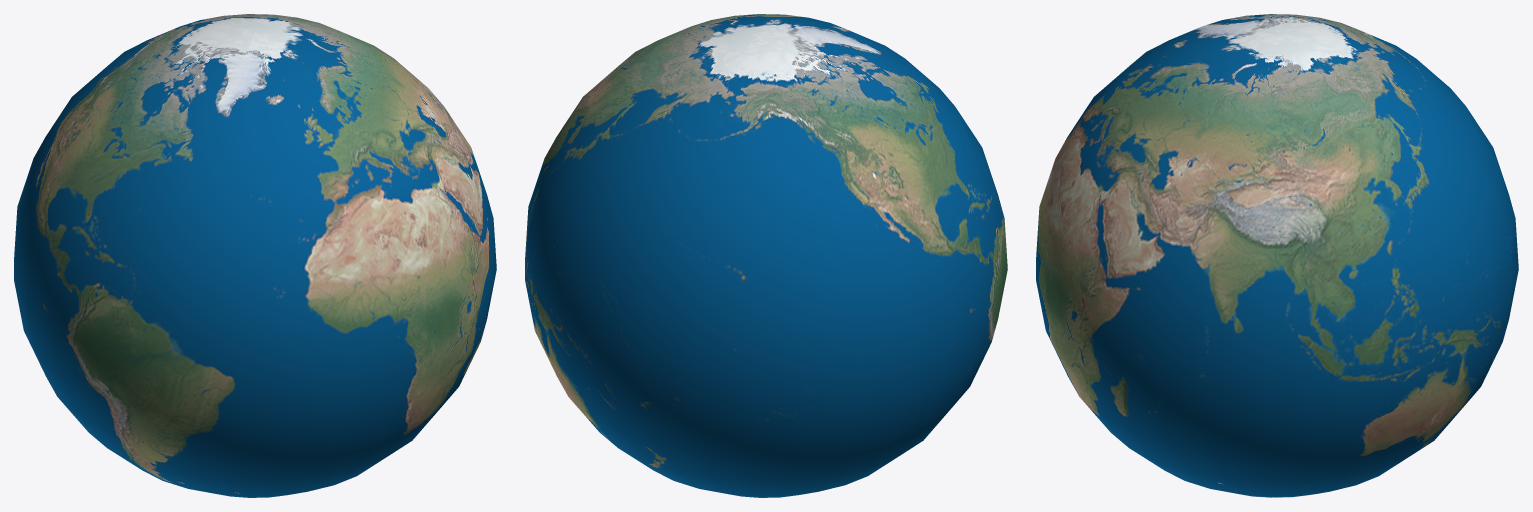
The model's file is earth.FBX.
The picture shows the model from 3 angles, left to right: view 1: azimuth 30°, elevation 25°; view 2: azimuth 150°, elevation 25°; view 3: azimuth 270°, elevation 25°; orthographic projection.
Parts seen in each view (by area): view 1: Sun; view 2: Sun; view 3: Sun.
Boxes of the visible parts, box(x1,y1,x2,y2) form: Sun: box(14, 14, 496, 497); Sun: box(525, 14, 1007, 497); Sun: box(1036, 14, 1518, 497).
Size of the model in its own units: 11.07 by 11.11 by 11.05.
Materials: 1 (1 with a texture image).
